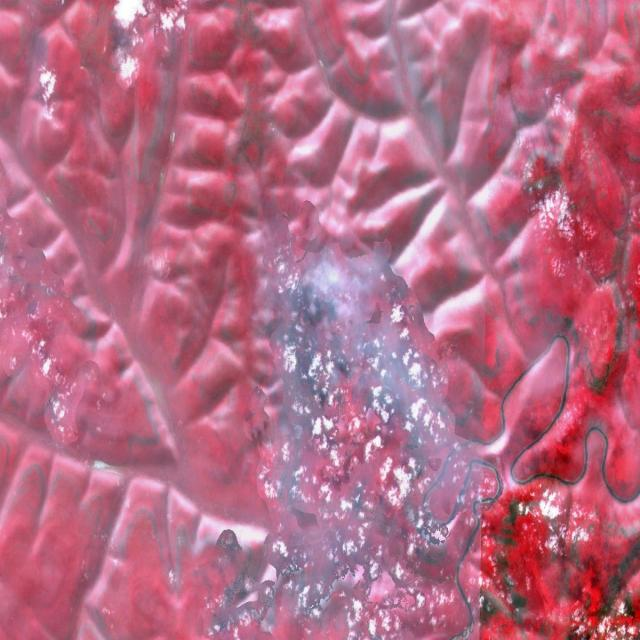fire: (267, 280, 371, 414)
